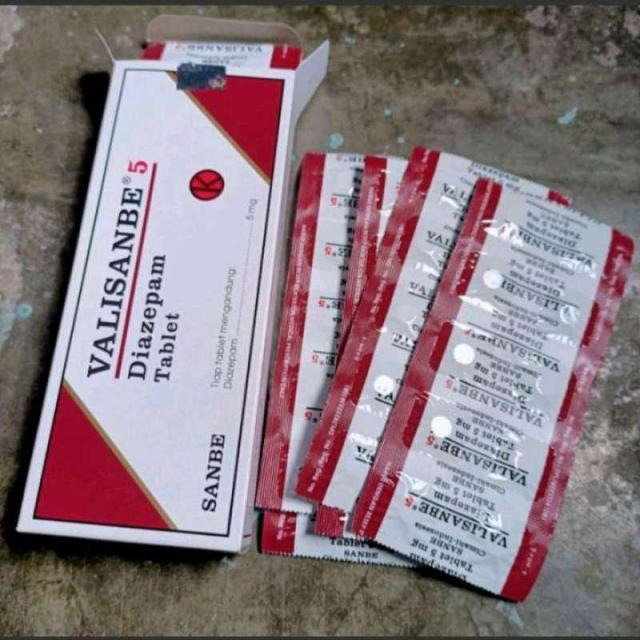drug-name: (84, 150, 149, 378)
